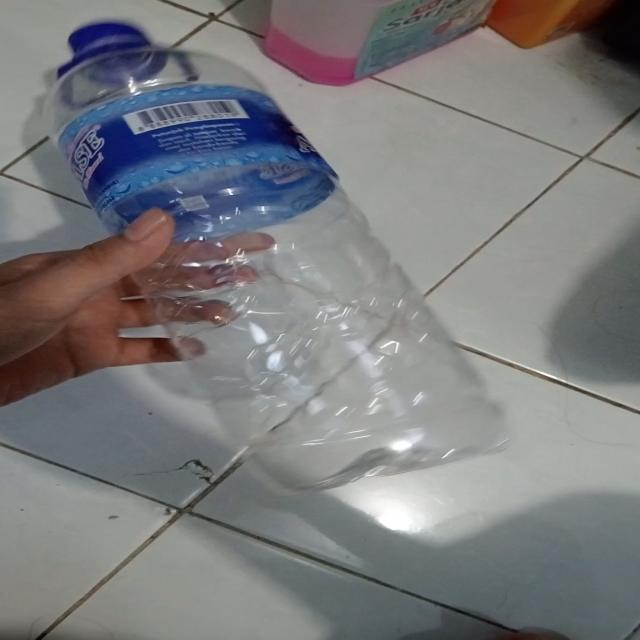Botol bekas: (41, 20, 511, 497)
